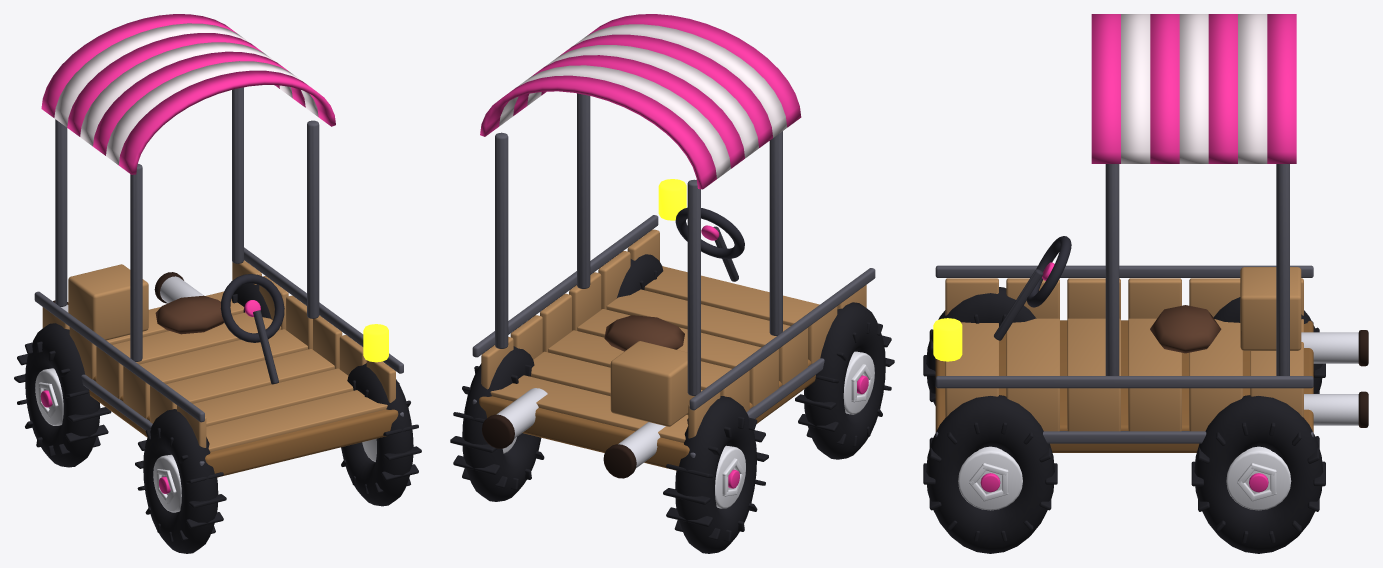
File: kart-gerobak.glb
3 renders of one model, left to right at view 1: azimuth 30°, elevation 25°; view 2: azimuth 150°, elevation 25°; view 3: azimuth 270°, elevation 25°, orthographic. The views are drawn at different scales.
Parts seen in each view (by area): view 1: Torus, Torus.002, Cube, Torus.001, Cube.003, arch, Cube.024, Cube.006, Cube.009, Cube.012, arch.001, arch.002 (+29 smaller); view 2: Torus.002, Torus, Cube.024, Torus.003, arch.006, Cube, Cube.006, arch.005, arch.004, Cube.003, Cube.018, arch.003 (+34 smaller); view 3: Torus.001, Torus.003, Cube, Cube.021, arch, arch.001, arch.002, arch.003, arch.004, arch.005, arch.006, Cube.024 (+31 smaller).
Part boxes in pixels (<box>): Torus: <box>143,409,218,553</box>; Torus.002: <box>25,323,100,467</box>; Cube: <box>89,329,398,477</box>; Torus.001: <box>341,363,413,506</box>; Cube.003: <box>206,390,387,452</box>; arch: <box>118,70,335,174</box>; Cube.024: <box>68,264,148,340</box>; Cube.006: <box>193,368,353,426</box>; Cube.009: <box>166,349,334,403</box>; Cube.012: <box>139,329,307,383</box>; arch.001: <box>106,61,318,164</box>; arch.002: <box>93,51,305,155</box>; Torus.002: <box>675,396,756,553</box>; Torus: <box>804,302,885,459</box>; Cube.024: <box>610,341,694,426</box>; Torus.003: <box>462,346,541,501</box>; arch.006: <box>480,75,716,189</box>; Cube: <box>479,309,815,470</box>; Cube.006: <box>606,289,790,347</box>; arch.005: <box>499,65,730,178</box>; arch.004: <box>513,55,744,168</box>; Cube.003: <box>644,266,819,325</box>; Cube.018: <box>490,375,688,442</box>; arch.003: <box>527,45,758,158</box>; Torus.001: <box>926,395,1054,553</box>; Torus.003: <box>1194,395,1323,553</box>; Cube: <box>935,320,1313,452</box>; Cube.021: <box>935,376,1313,388</box>; arch: <box>1091,14,1120,163</box>; arch.001: <box>1121,14,1150,163</box>; arch.002: <box>1150,14,1179,163</box>; arch.003: <box>1179,14,1208,163</box>; arch.004: <box>1208,14,1237,163</box>; arch.005: <box>1238,14,1267,163</box>; arch.006: <box>1267,14,1296,163</box>; Cube.024: <box>1240,267,1301,350</box>.
Size of the model in its own units: 2.52 by 4.22 by 3.65.
